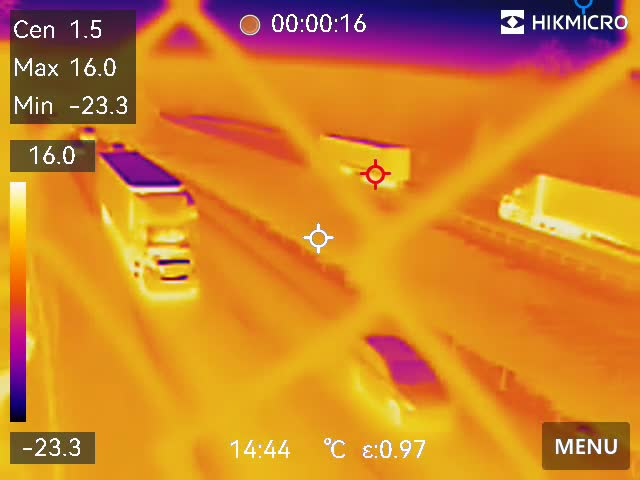heavyTruck: (95, 146, 201, 300), (490, 170, 640, 253), (314, 126, 419, 191)
largeCar: (349, 322, 451, 429)
